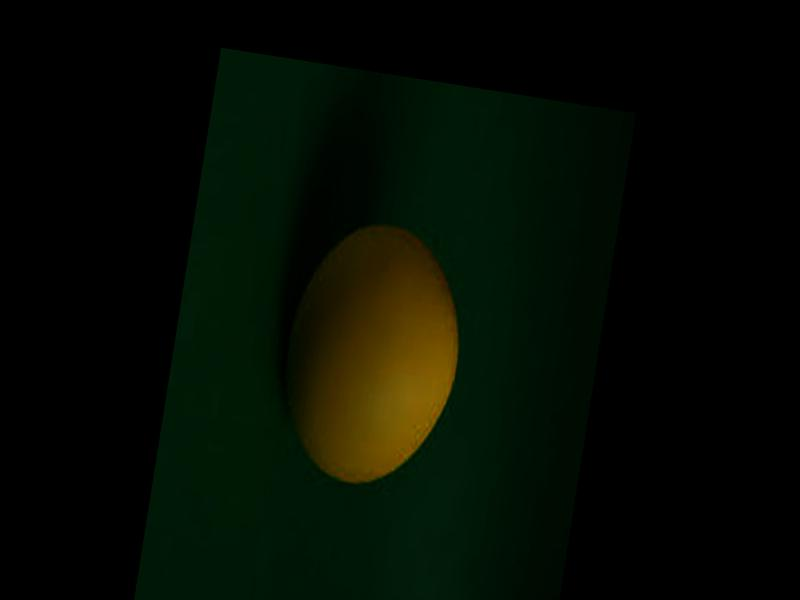Eggs: (266, 219, 477, 500)
